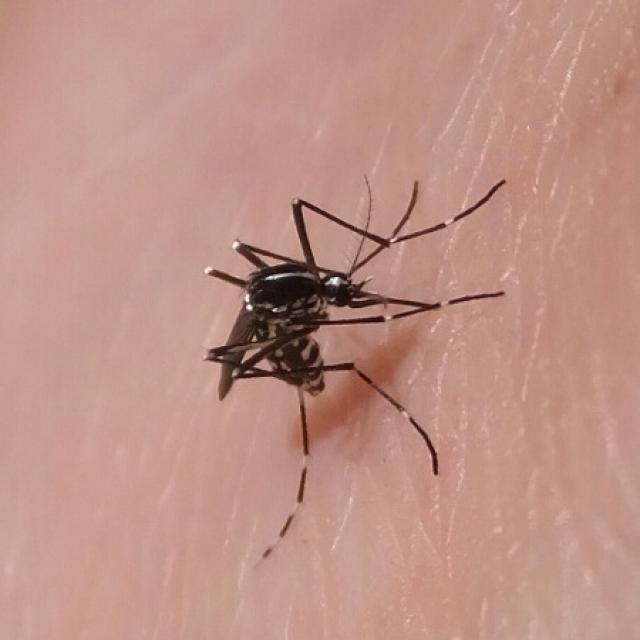albopictus: (176, 136, 508, 564)
